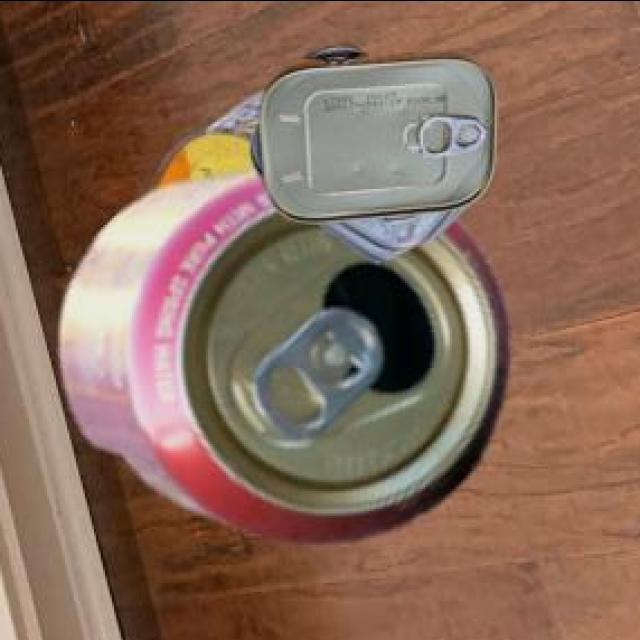logam: (57, 173, 505, 545), (247, 44, 493, 265), (149, 96, 261, 192)
